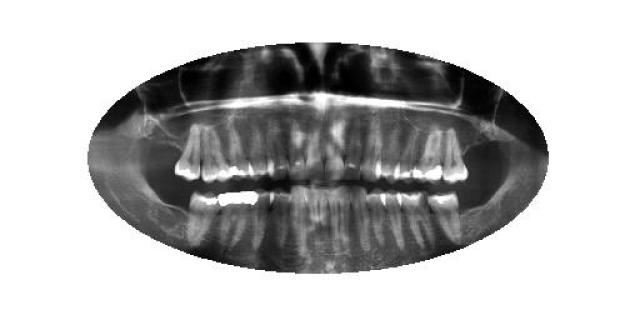Fillings: (218, 190, 258, 248), (414, 131, 444, 185)
